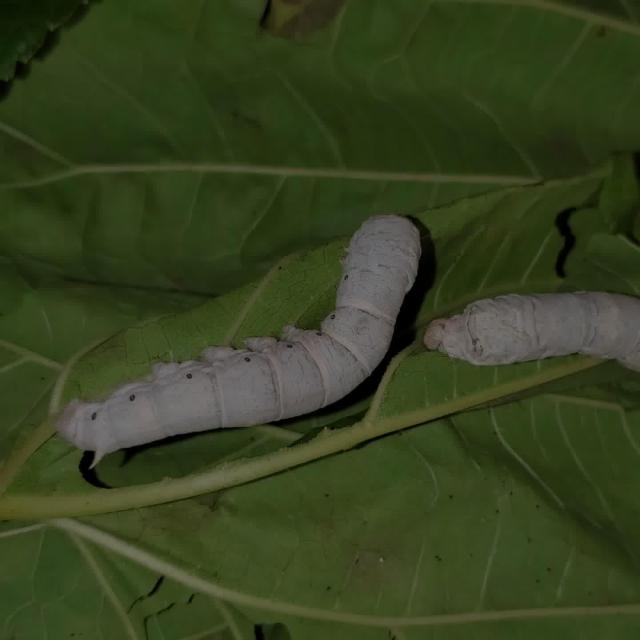Healthy: (27, 160, 430, 489)
